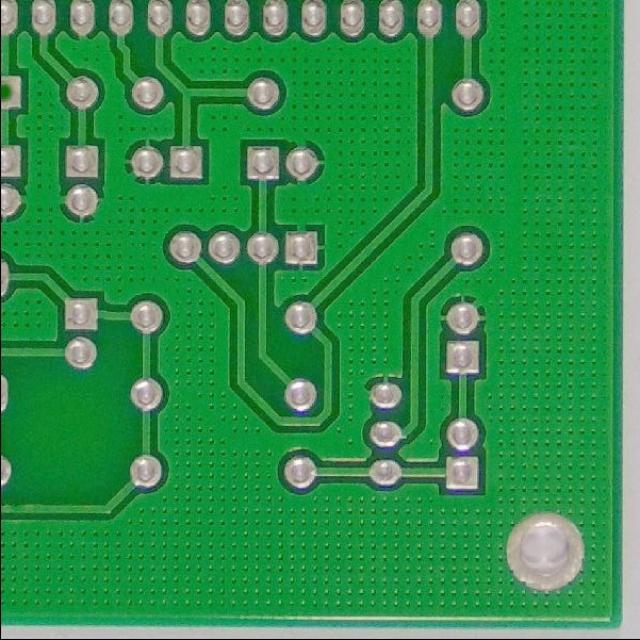Missing_Hole: (0, 70, 26, 114)
